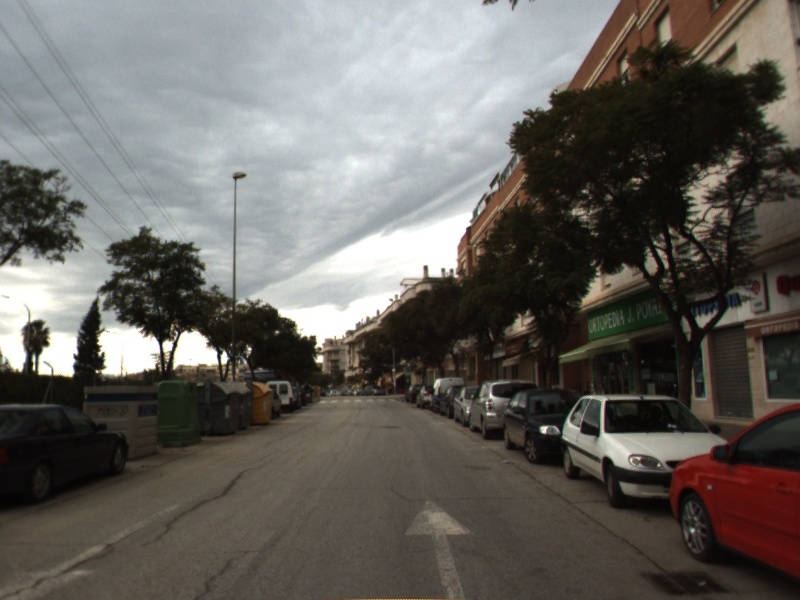STRAIGHT: (402, 495, 478, 600)
